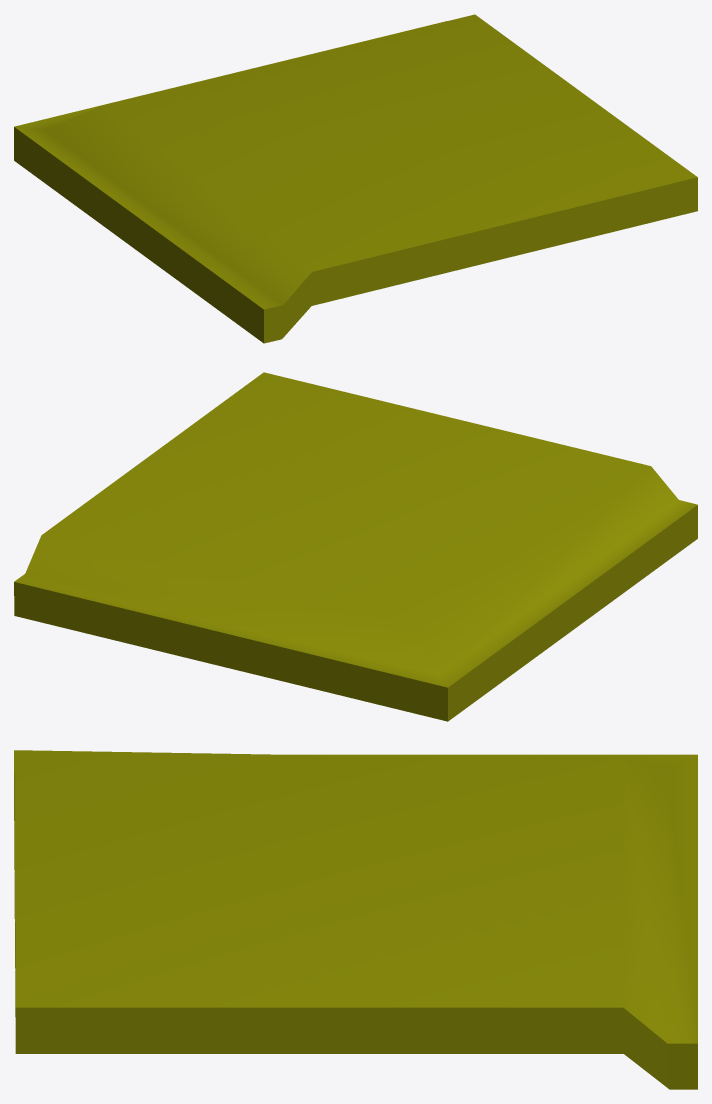
File: CornerCeiling.fbx
3 renders of one model, top to bottom at view 1: azimuth 30°, elevation 25°; view 2: azimuth 150°, elevation 25°; view 3: azimuth 270°, elevation 25°, orthographic. The views are drawn at different scales.
Parts seen in each view (by area): view 1: CeilingCornerTile5; view 2: CeilingCornerTile5; view 3: CeilingCornerTile5.
Part boxes in pixels (<box>): CeilingCornerTile5: <box>14,14,697,343</box>; CeilingCornerTile5: <box>14,372,697,721</box>; CeilingCornerTile5: <box>14,750,697,1089</box>.
Size of the model in its own units: 1 by 0.1335 by 1.
